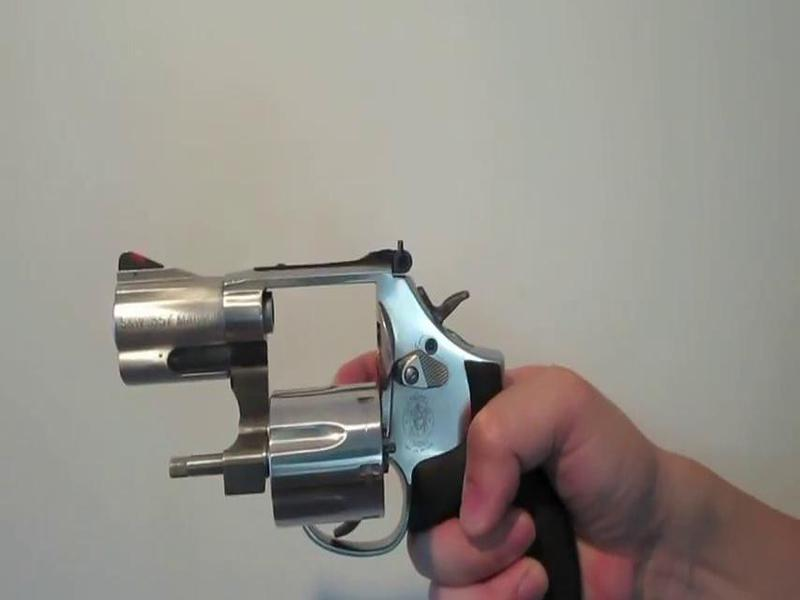Revolver: (91, 205, 600, 600)
